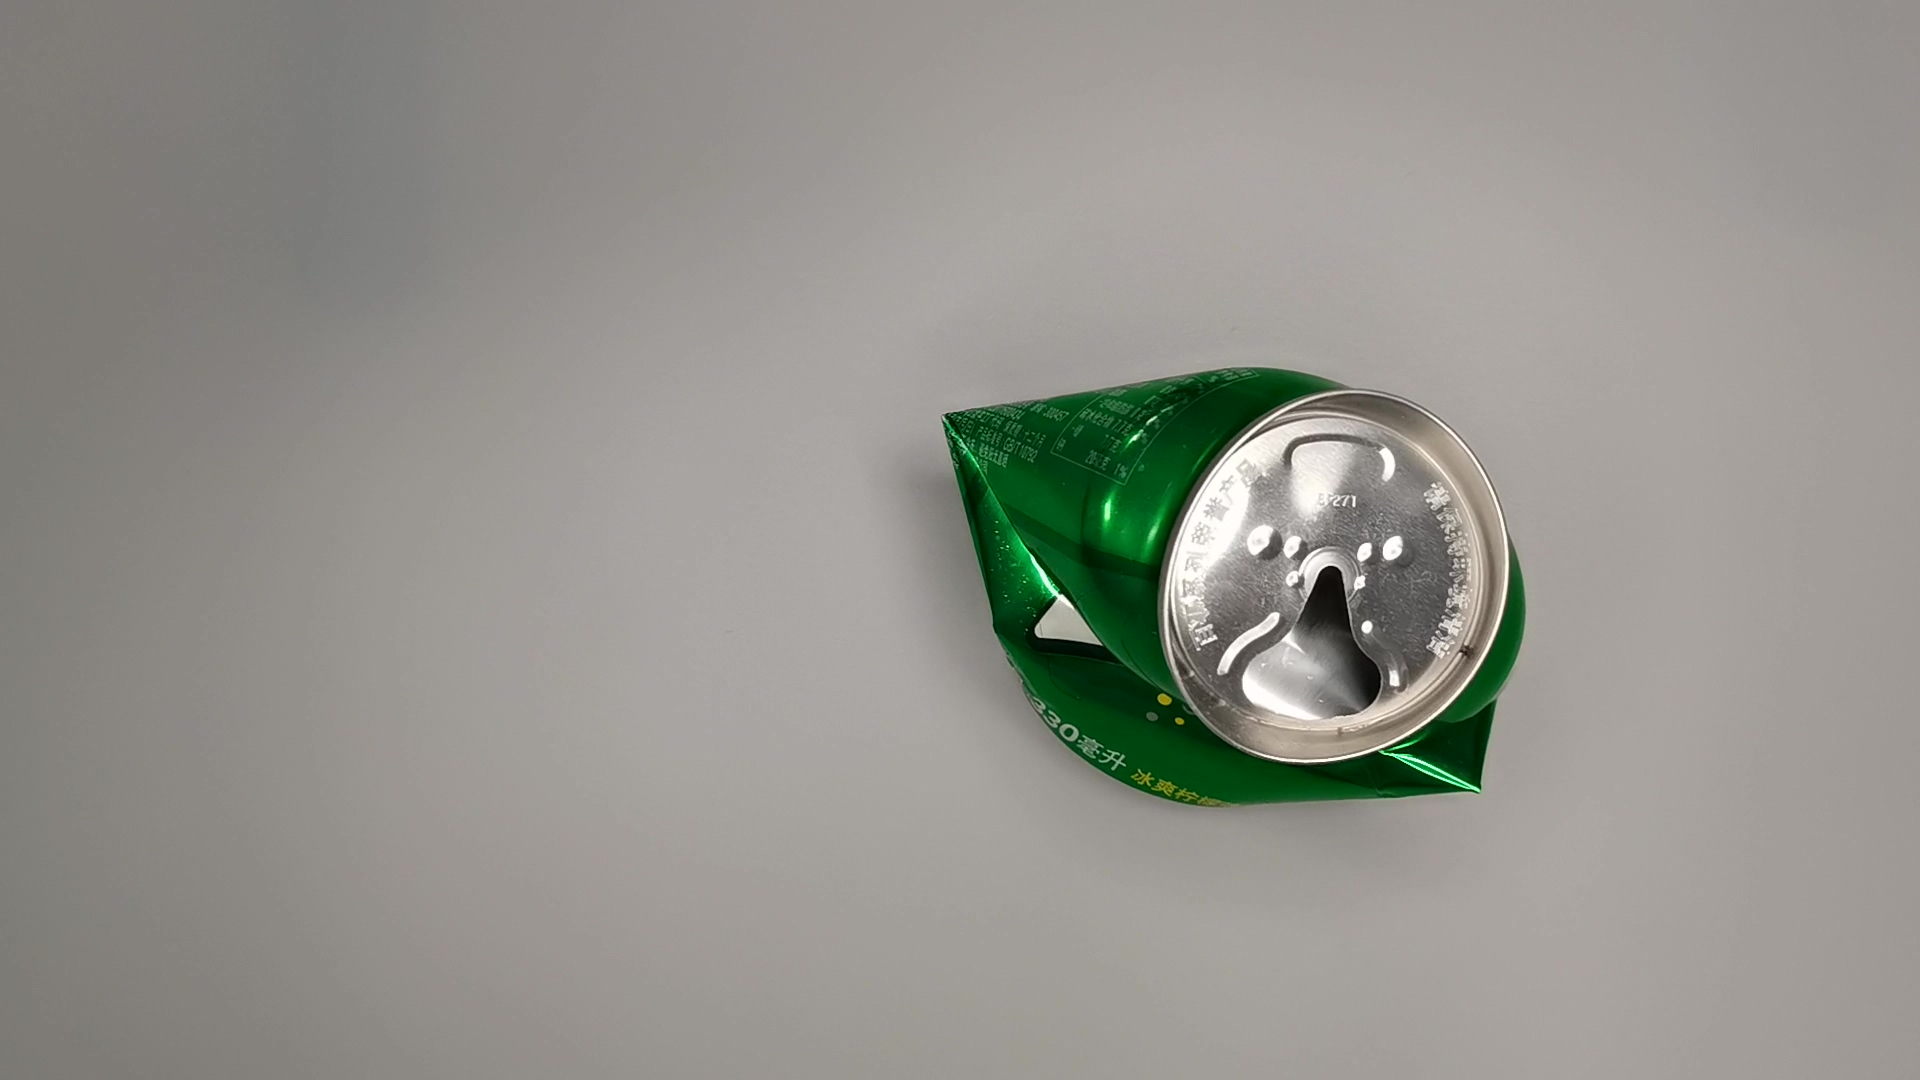can: (936, 357, 1534, 829)
